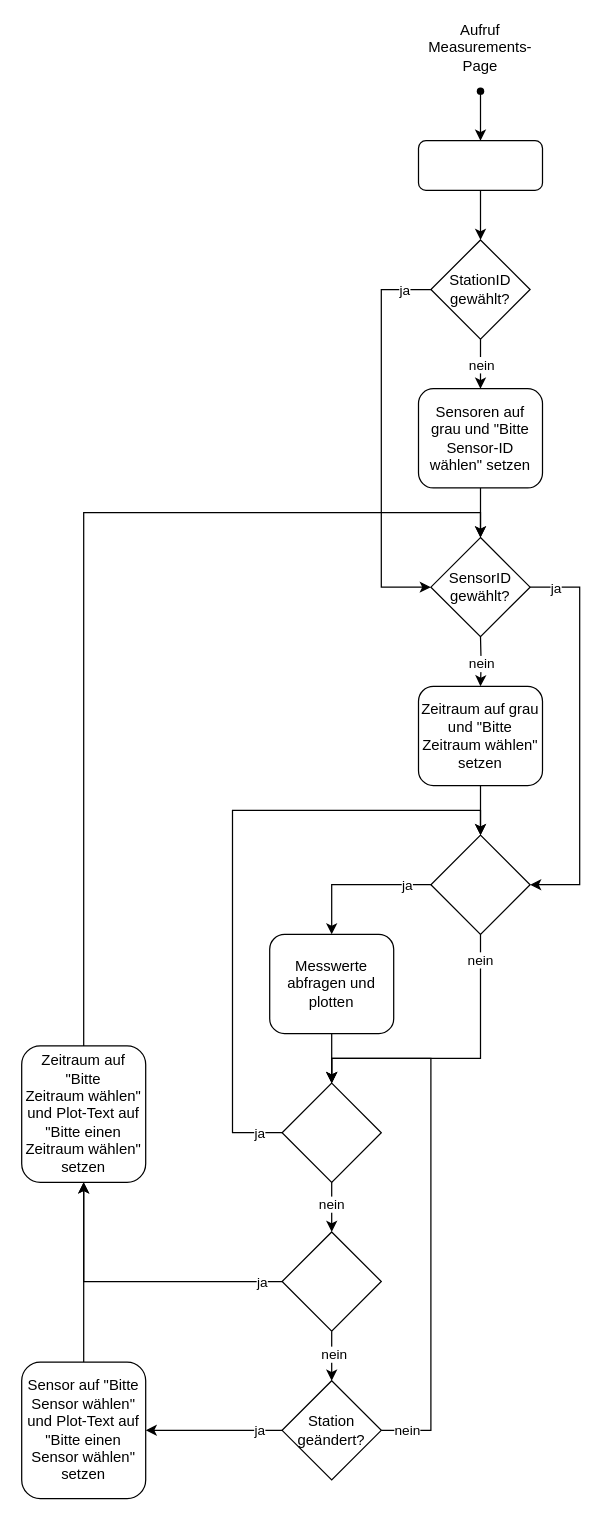
Image size: 611x1520. Some labels were removed from this diagram. Here are the shapes that lost their labels. From the top down, the box of each, then its label:
(417, 140, 542, 190): Station: "Bitte Station-ID wählen"
(430, 834, 530, 934): Zeitraum gewählt?
(281, 1082, 381, 1182): Zeitraum geändert?
(281, 1231, 381, 1331): Sensor geändert?
